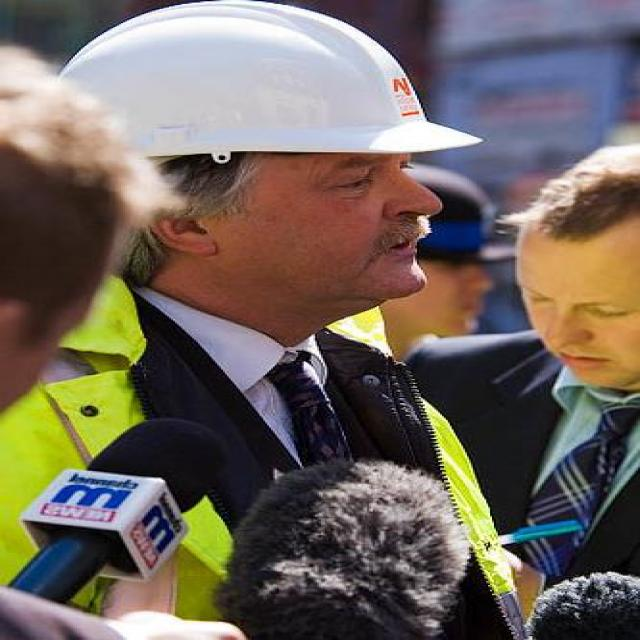Reflective-Jacket: (6, 282, 523, 638)
Safety-Helmet: (56, 6, 480, 164)
